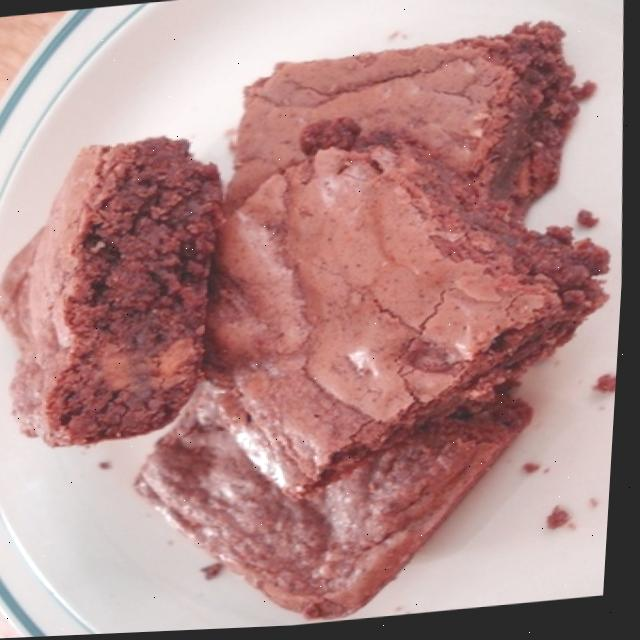蛋糕甜品: (0, 16, 607, 610)
